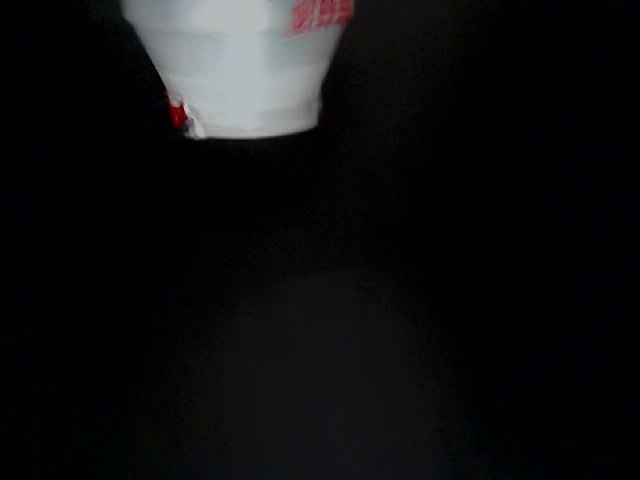CYLJ: (58, 376, 166, 480)
